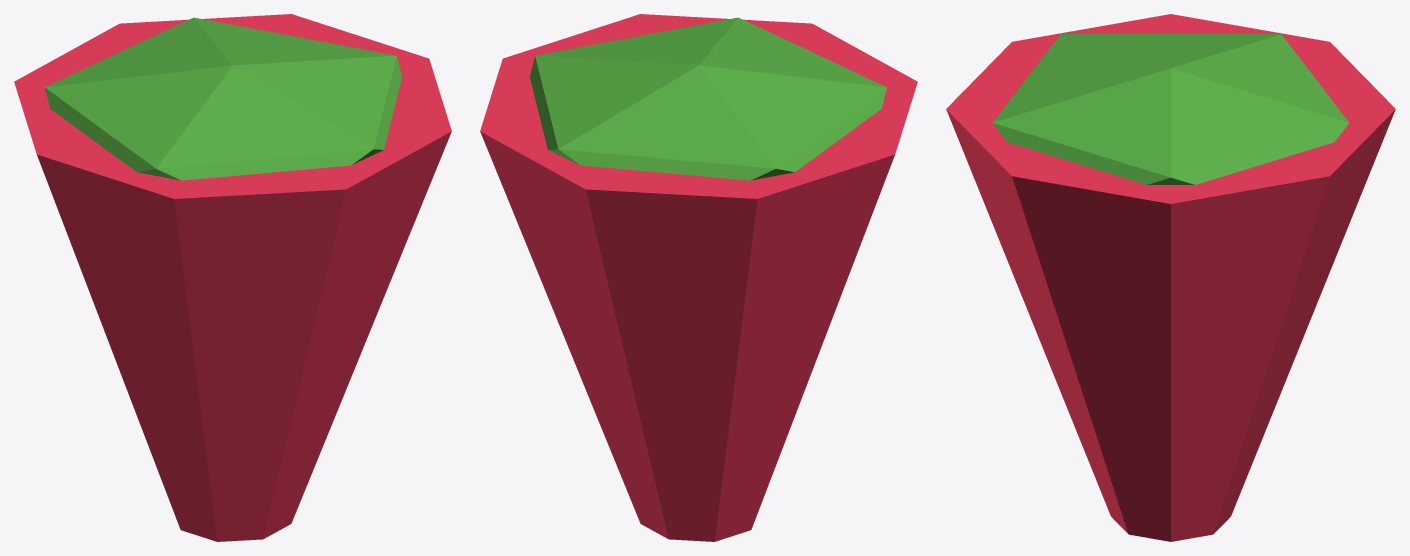
The model's file is harvest_drop_strawberry.glb.
The picture shows the model from 3 angles, left to right: view 1: azimuth 30°, elevation 25°; view 2: azimuth 150°, elevation 25°; view 3: azimuth 270°, elevation 25°; orthographic projection.
Visible parts, largest first — view 1: FTF_Harvest_Drop_Strawberry_Mesh; view 2: FTF_Harvest_Drop_Strawberry_Mesh; view 3: FTF_Harvest_Drop_Strawberry_Mesh.
Part boxes in pixels (<box>): FTF_Harvest_Drop_Strawberry_Mesh: <box>14,14,451,541</box>; FTF_Harvest_Drop_Strawberry_Mesh: <box>480,14,917,541</box>; FTF_Harvest_Drop_Strawberry_Mesh: <box>946,14,1395,541</box>.
Size of the model in its own units: 0.3 by 0.33 by 0.3.
